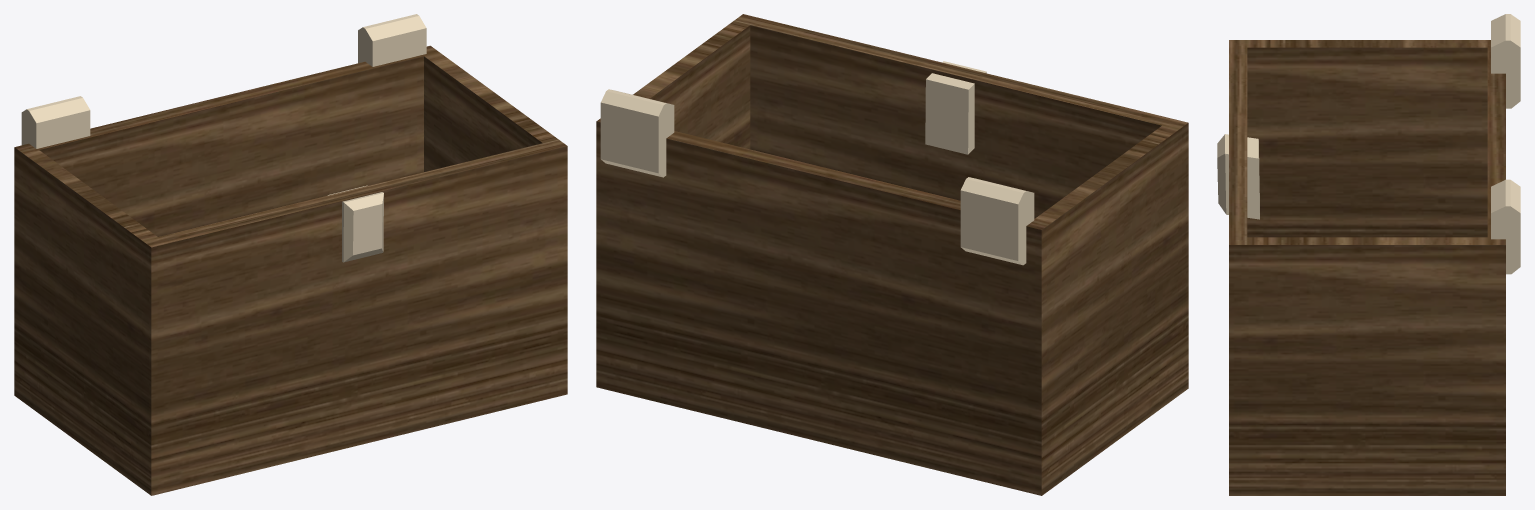
Rendered from Chest.glb.
3 views of the same model, side by side, from view 1: azimuth 30°, elevation 25°; view 2: azimuth 150°, elevation 25°; view 3: azimuth 270°, elevation 25° (orthographic). The views are drawn at different scales.
Parts seen in each view (by area): view 1: chest; view 2: chest; view 3: chest.
Part boxes in pixels (box(x1,y1,x2,y2)): chest: box(14, 14, 567, 495); chest: box(596, 14, 1188, 495); chest: box(1217, 14, 1520, 495).
Size of the model in its own units: 0.3505 by 0.2263 by 0.2192.
2 materials, 1 textured.
